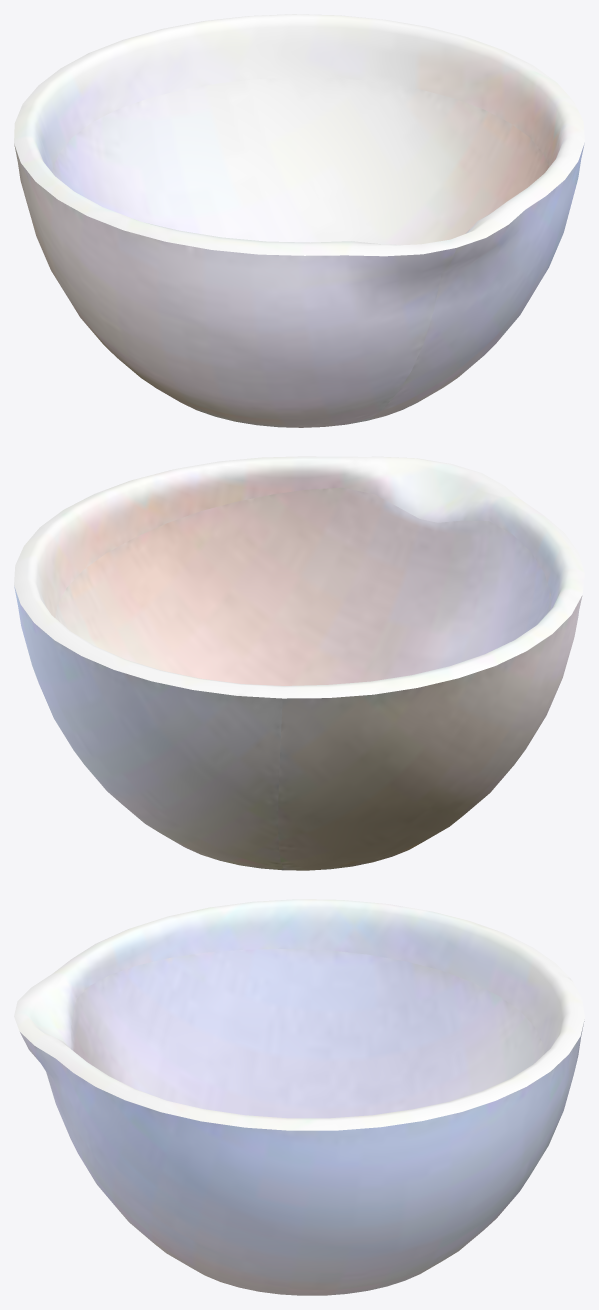
File: mortar.glb
3 views of the same model, one above another, from view 1: azimuth 30°, elevation 25°; view 2: azimuth 150°, elevation 25°; view 3: azimuth 270°, elevation 25° (orthographic). The views are drawn at different scales.
Visible parts, largest first — view 1: mortar; view 2: mortar; view 3: mortar.
Part boxes in pixels (x1,y1,x2,y2): mortar: (14, 14, 584, 427); mortar: (14, 456, 584, 870); mortar: (14, 899, 584, 1295).
Size of the model in its own units: 0.0704 by 0.0321 by 0.0735.
Materials: 1 (1 with a texture image).
